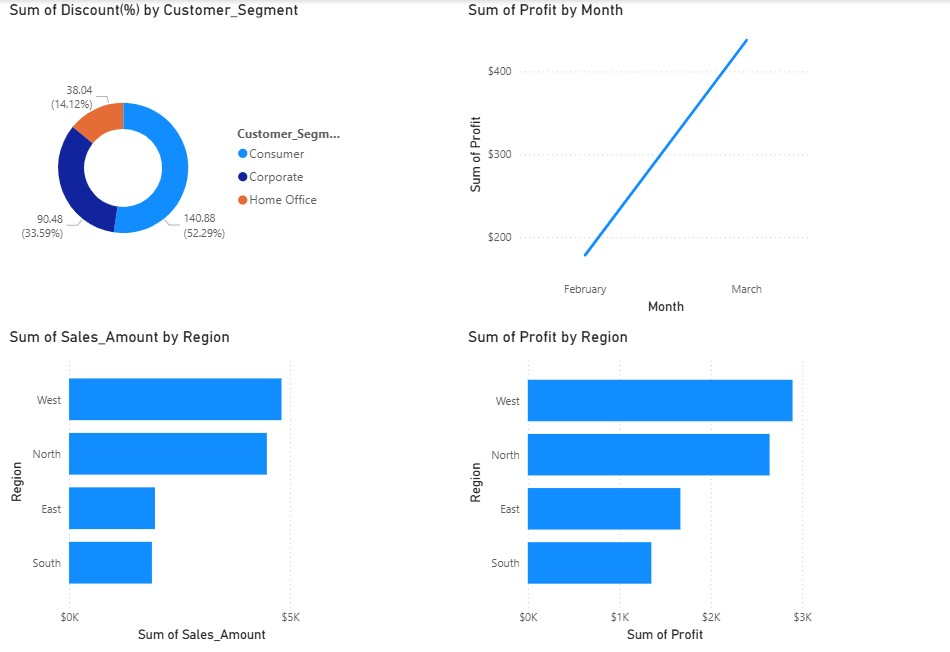

This screenshot's page, from the dashboard's own definition file:
{"tool":"powerbi","page":{"name":"Page 1","canvas":[1280,720],"ordinal":0},"visuals":[{"type":"donutChart","fields":{"Category":["Sheet1.Customer_Segment"],"Y":["Sum(Sheet1.Discount(%))"]},"box":[9.6,0,377.4,349.9],"z":0},{"type":"lineChart","fields":{"Category":["Sheet1.Order_Date.Variation.Date Hierarchy.Month","Sheet1.Order_Date.Variation.Date Hierarchy.Day"],"Y":["Sum(Sheet1.Profit)"]},"box":[513.2,0,387,349.9],"z":1000},{"type":"barChart","fields":{"Category":["Sheet1.Region"],"Y":["Sum(Sheet1.Sales_Amount)"]},"box":[10,360,377,350],"z":2000},{"type":"barChart","fields":{"Category":["Sheet1.Region"],"Y":["Sum(Sheet1.Profit)"]},"box":[513,360,387,350],"z":2001}]}

Visuals, with their boxes on the page's 1280x720 design canvas (x1, y1, x2, y2). These are canvas units, not pixel positions in the 950x652 screenshot, which may show the page scaled, cropped or inside an application window:
donutChart - Sheet1.Customer_Segment x Sum(Sheet1.Discount(%)): pyautogui.locateOnScreen(10, 0, 387, 350)
lineChart - Sheet1.Order_Date.Variation.Date Hierarchy.Month x Sheet1.Order_Date.Variation.Date Hierarchy.Day: pyautogui.locateOnScreen(513, 0, 900, 350)
barChart - Sheet1.Region x Sum(Sheet1.Sales_Amount): pyautogui.locateOnScreen(10, 360, 387, 710)
barChart - Sheet1.Region x Sum(Sheet1.Profit): pyautogui.locateOnScreen(513, 360, 900, 710)
